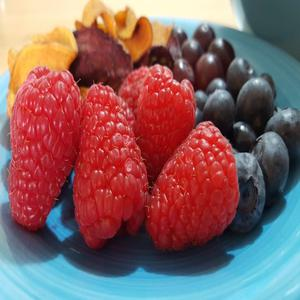raspb: (2, 61, 194, 249)
